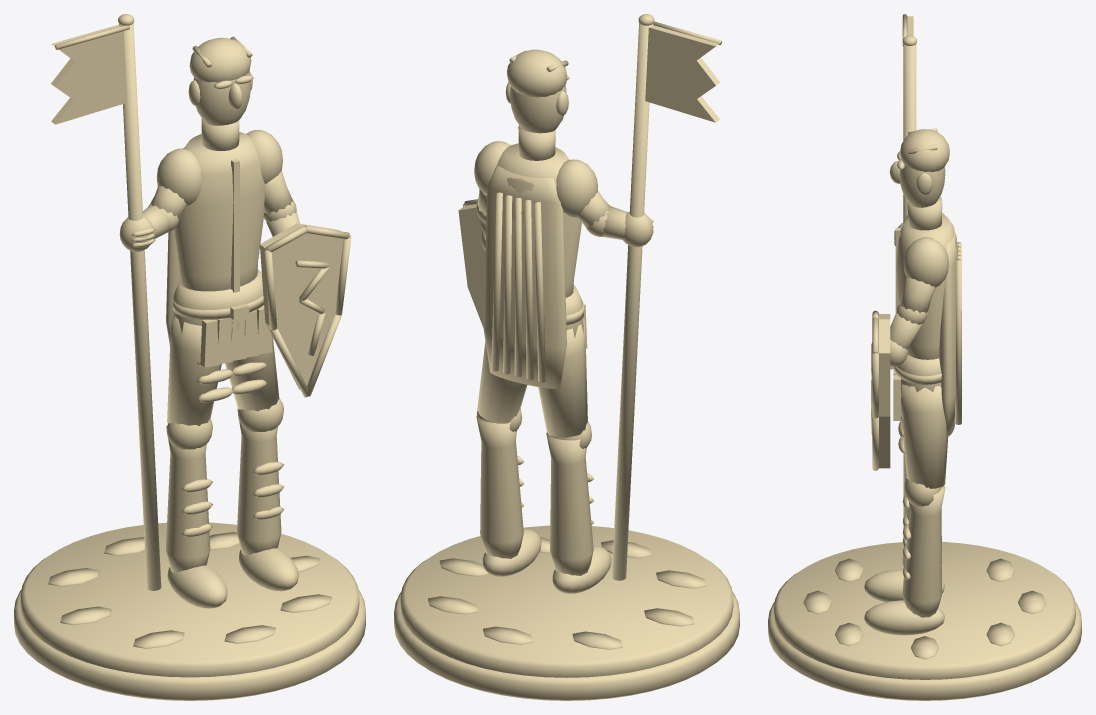
The model's file is knight-beige-level-3-bare.fbx.
The picture shows the model from 3 angles, left to right: view 1: azimuth 30°, elevation 25°; view 2: azimuth 150°, elevation 25°; view 3: azimuth 270°, elevation 25°; orthographic projection. The views are drawn at different scales.
Parts seen in each view (by area): view 1: Knight_Level_3_Bare_Sculpt; view 2: Knight_Level_3_Bare_Sculpt; view 3: Knight_Level_3_Bare_Sculpt.
Boxes of the visible parts, left/top/right/bottom form: Knight_Level_3_Bare_Sculpt: left=14, top=14, right=365, bottom=700; Knight_Level_3_Bare_Sculpt: left=394, top=14, right=739, bottom=700; Knight_Level_3_Bare_Sculpt: left=768, top=14, right=1081, bottom=700.
Size of the model in its own units: 0.012 by 0.024 by 0.012.
